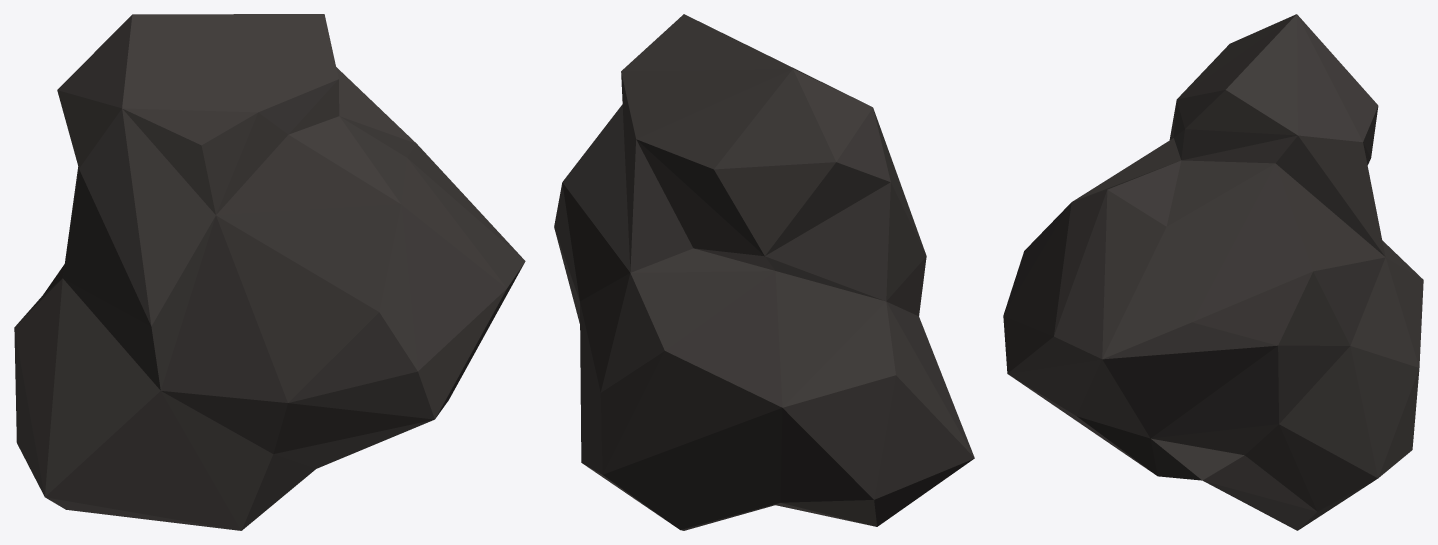
Rendered from Rock_2_LOD_1.fbx.
3 renders of one model, left to right at view 1: azimuth 30°, elevation 25°; view 2: azimuth 150°, elevation 25°; view 3: azimuth 270°, elevation 25°, orthographic. The views are drawn at different scales.
Visible parts, largest first — view 1: Group42497; view 2: Group42497; view 3: Group42497.
Boxes of the visible parts, box(x1,y1,x2,y2) form: Group42497: box(14, 14, 525, 530); Group42497: box(554, 14, 974, 530); Group42497: box(1003, 14, 1423, 530).
Bounding box in the file's own units: 8.68 × 9.96 × 8.14.
